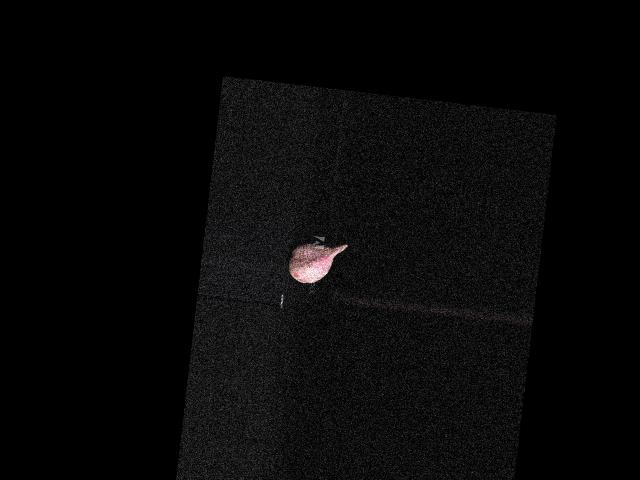beet: (287, 238, 347, 288)
